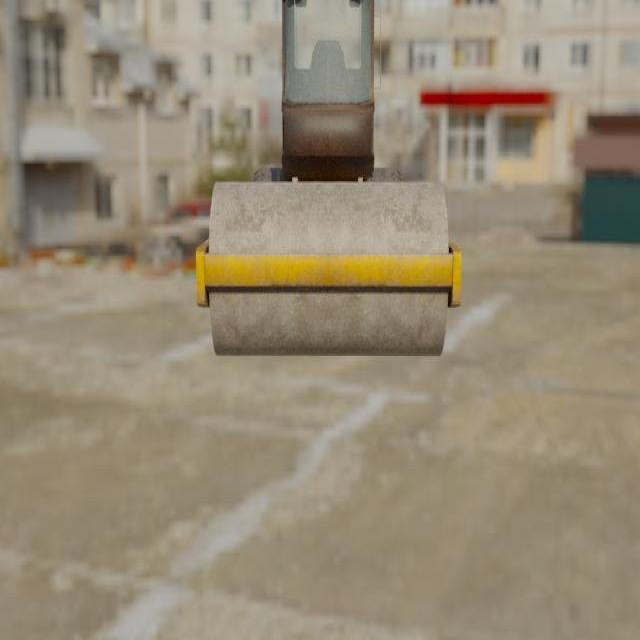Roller: (195, 0, 461, 357)
